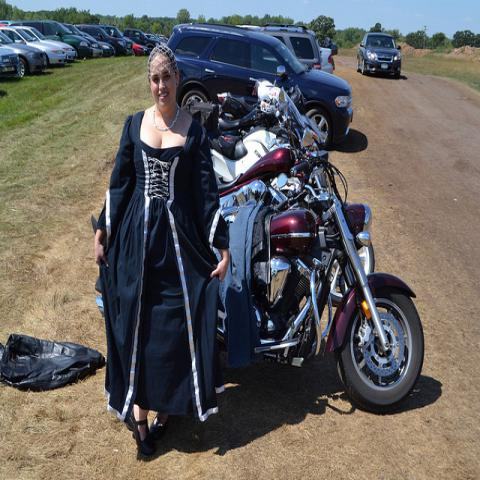car: (166, 25, 356, 152), (73, 21, 335, 74), (8, 21, 94, 58), (0, 26, 66, 70), (264, 27, 322, 71), (9, 26, 78, 61), (0, 30, 43, 77), (357, 33, 402, 76), (63, 24, 103, 57), (82, 31, 116, 57), (0, 42, 21, 78), (326, 39, 338, 54)
motorcycle: (220, 88, 430, 414), (212, 100, 302, 207), (182, 76, 281, 173), (221, 107, 266, 133)
